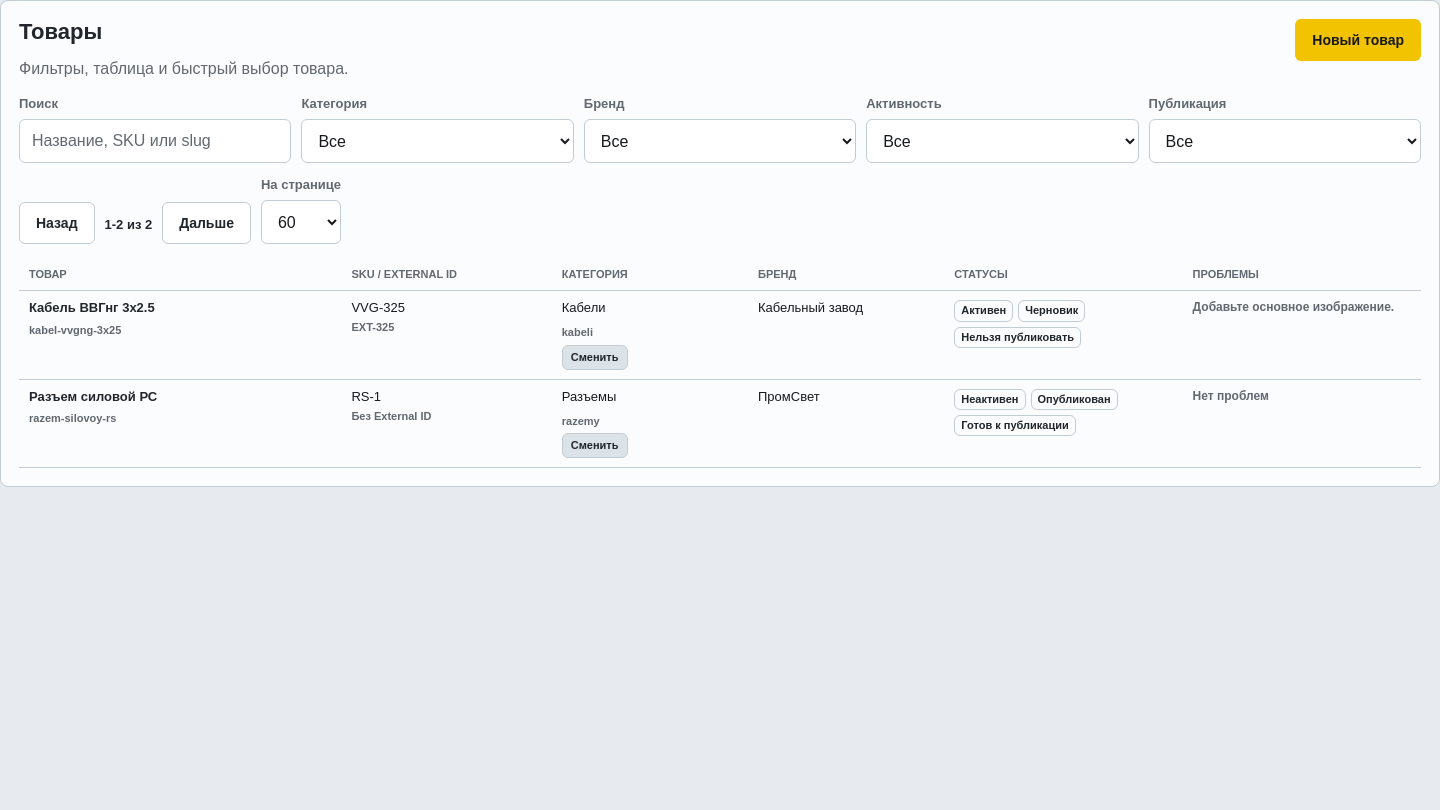
Scenario: AdminProductManager › не дает сохранить родительскую категорию в быстрой смене
expect the button "Кабель ВВГнг 3x2.5 kabel-vvgng-3x25" is shown: met, box [29, 300, 332, 337]
Click the button with aria-label "Сменить категорию" at (595, 357), box [562, 345, 628, 370]
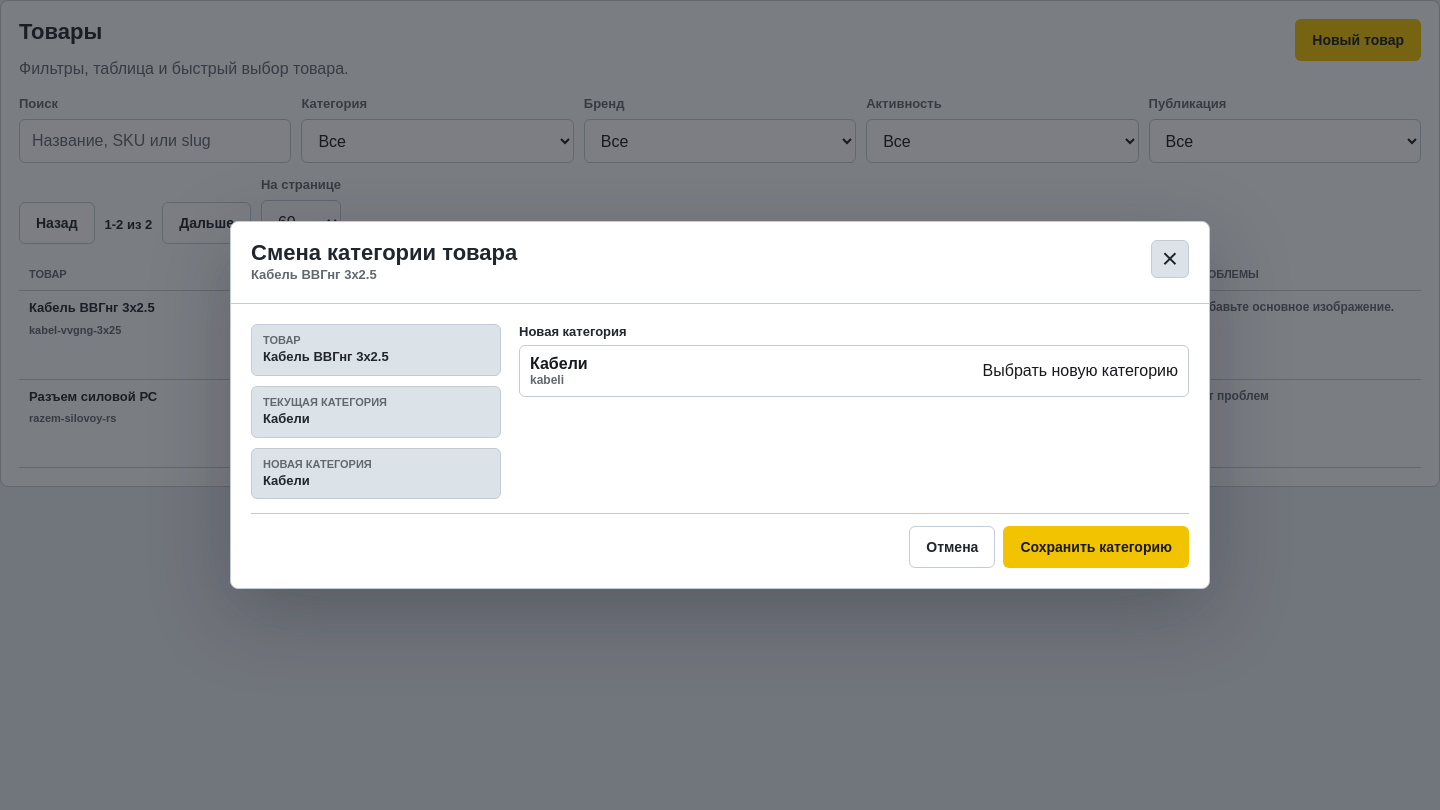
Click the button "Кабели kabeli Выбрать новую категорию" at (559, 363), box [519, 345, 1189, 397]
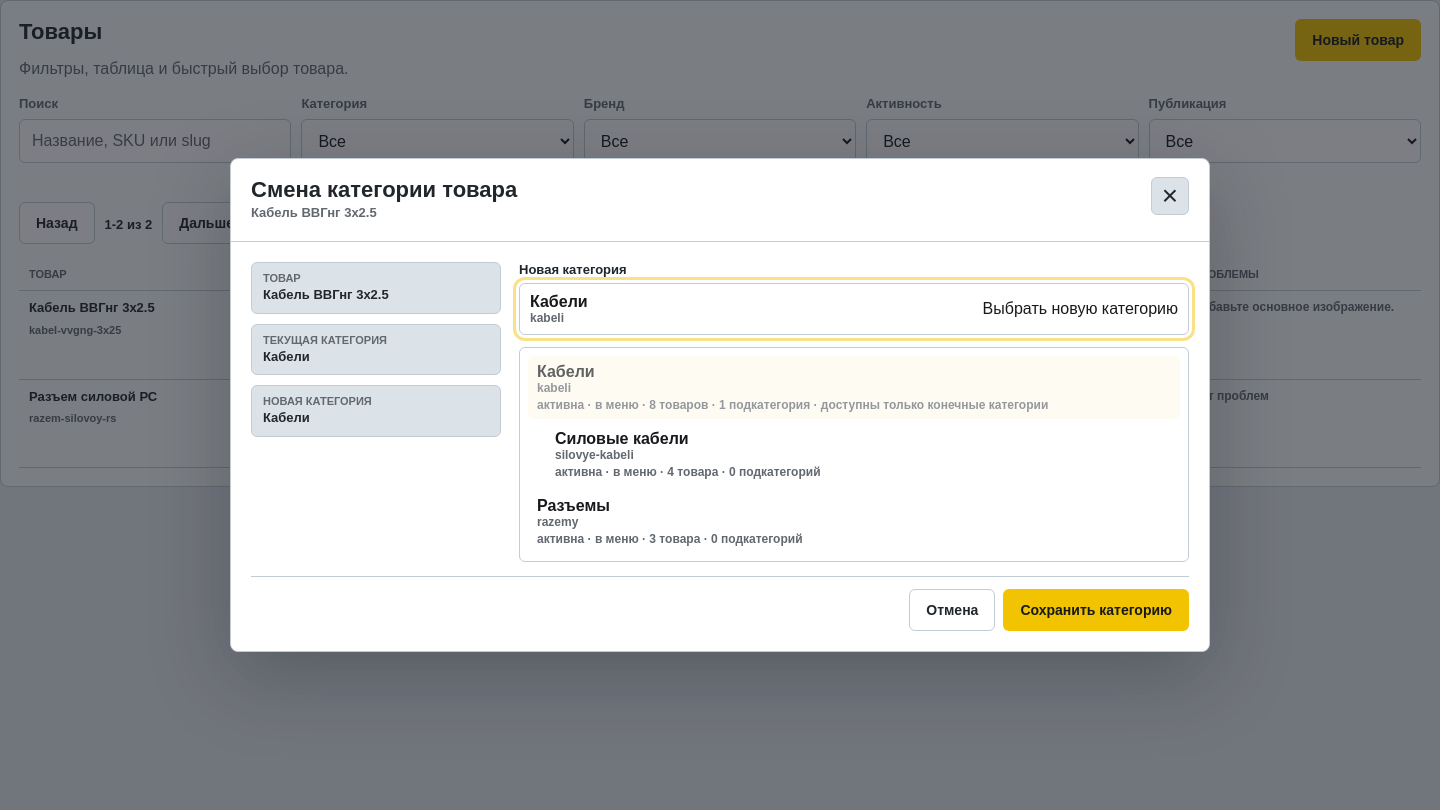
expect the button "Сохранить категорию" is disabled: met, box [1003, 589, 1189, 631]
expect the option "Кабели" is disabled: met, box [528, 356, 1180, 419]
